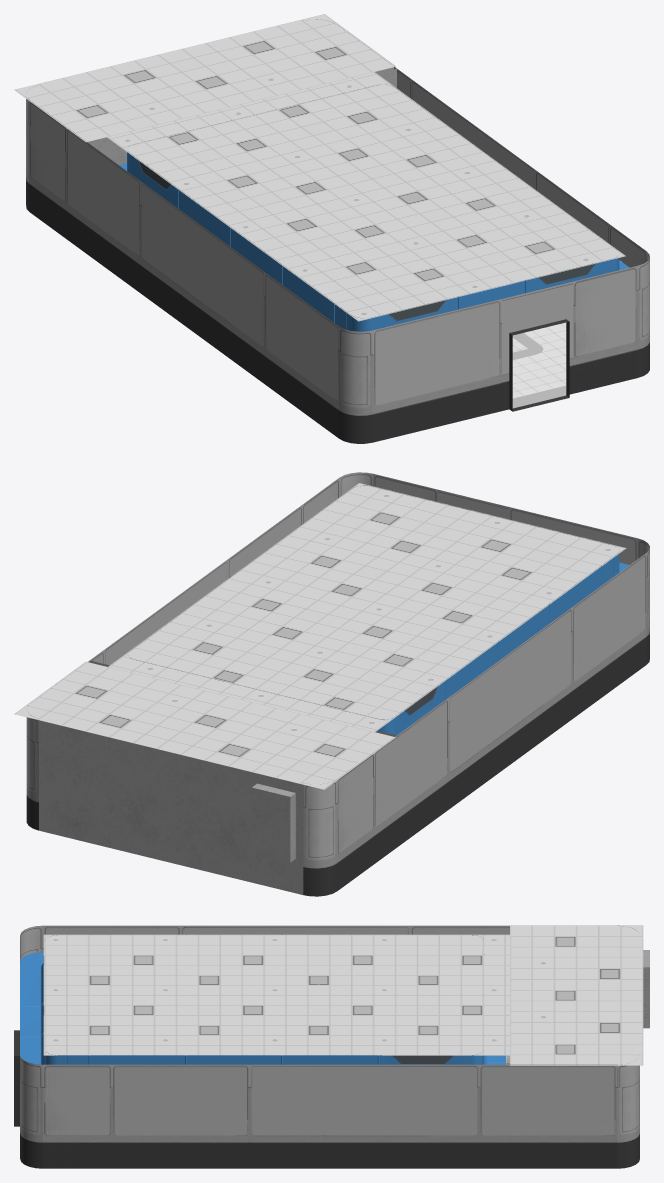
Rendered from PhysicsLAB.fbx.
3 renders of one model, top to bottom at view 1: azimuth 30°, elevation 25°; view 2: azimuth 150°, elevation 25°; view 3: azimuth 270°, elevation 25°, orthographic. The views are drawn at different scales.
Parts seen in each view (by area): view 1: SciFiwall, Roof8, Roof9, Roof_Border, Floor, wall1; view 2: Roof8, SciFiwall, wall1, Roof9, Roof_Border; view 3: SciFiwall, Roof8, Roof9, Roof_Border, wall1.
Boxes of the visible parts, box(x1,y1,x2,y2) form: SciFiwall: box(26, 19, 649, 443); Roof8: box(107, 72, 625, 321); Roof9: box(14, 14, 395, 142); Roof_Border: box(119, 84, 629, 331); Floor: box(512, 322, 566, 408); wall1: box(87, 67, 396, 164); Roof8: box(108, 483, 626, 731); SciFiwall: box(26, 472, 649, 896); wall1: box(39, 660, 396, 894); Roof9: box(14, 661, 395, 789); Roof_Border: box(131, 485, 629, 735); SciFiwall: box(14, 925, 639, 1168); Roof8: box(43, 934, 509, 1055); Roof9: box(510, 925, 643, 1065); Roof_Border: box(20, 935, 505, 1064); wall1: box(506, 950, 649, 1064).
Size of the model in its own units: 1214 by 419 by 2324.
